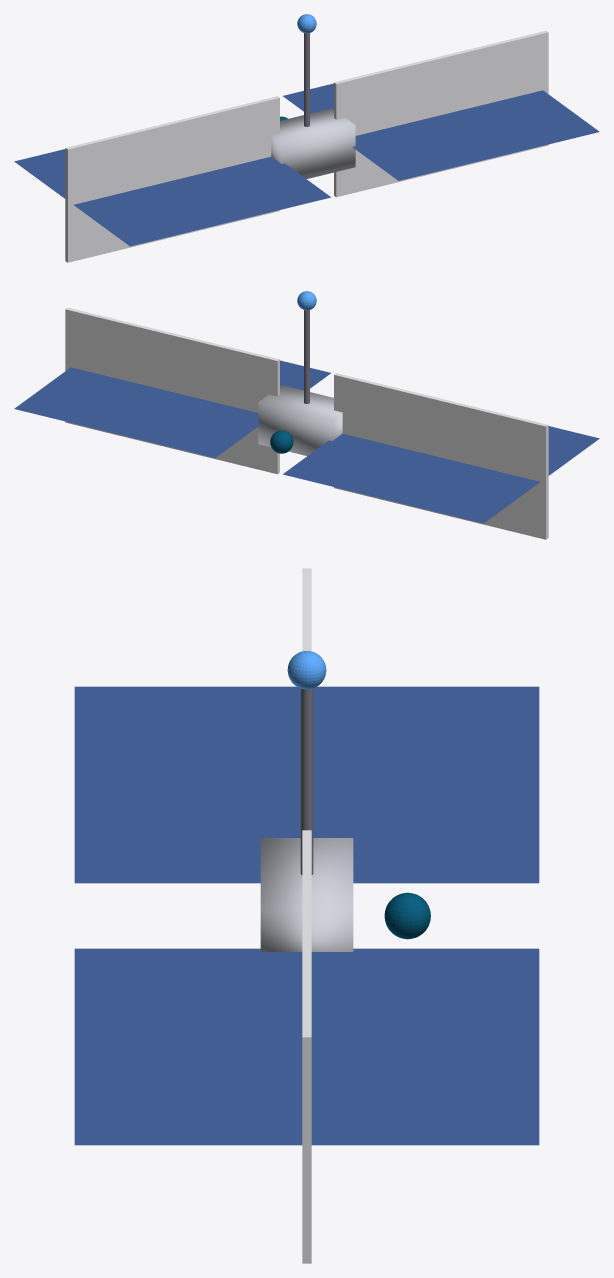
Rendered from satellite.glb.
The picture shows the model from 3 angles, top to bottom: view 1: azimuth 30°, elevation 25°; view 2: azimuth 150°, elevation 25°; view 3: azimuth 270°, elevation 25°; orthographic projection. The views are drawn at different scales.
Visible parts, largest first — view 1: Cube, Cube.001, Panel_Left, Panel_Right, Satellite_Body, Antenna; view 2: Cube, Cube.001, Panel_Left, Panel_Right, Satellite_Body, Antenna, Front_Sensor; view 3: Panel_Right, Panel_Left, Satellite_Body, Cube.001, Antenna, Front_Sensor, Antenna_Tip.
Part boxes in pixels (box(x1,y1,x2,y2)): Cube: box(65, 96, 279, 262); Cube.001: box(334, 30, 548, 197); Panel_Left: box(14, 149, 331, 246); Panel_Right: box(283, 83, 599, 180); Satellite_Body: box(271, 108, 355, 178); Antenna: box(304, 33, 309, 126); Cube: box(334, 373, 548, 539); Cube.001: box(65, 307, 279, 474); Panel_Left: box(282, 426, 599, 523); Panel_Right: box(14, 360, 330, 457); Satellite_Body: box(258, 385, 342, 455); Antenna: box(304, 310, 309, 403); Front_Sensor: box(270, 430, 293, 453); Panel_Right: box(74, 948, 539, 1145); Panel_Left: box(74, 686, 539, 883); Satellite_Body: box(260, 838, 353, 951); Cube.001: box(302, 830, 311, 1263); Antenna: box(300, 688, 313, 874); Front_Sensor: box(384, 892, 430, 939); Antenna_Tip: box(287, 651, 326, 689).
Bounding box in the file's own units: 14.32 × 5.36 × 6.
